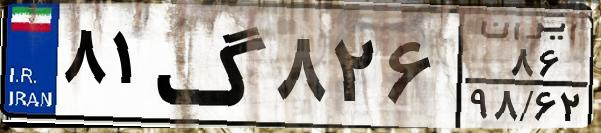1: (110, 28, 156, 98)
2: (330, 28, 385, 110), (560, 70, 590, 125)
6: (385, 28, 445, 110), (537, 27, 568, 80), (535, 70, 560, 125)
8: (270, 28, 330, 110), (57, 26, 110, 100), (508, 27, 537, 80), (495, 70, 520, 125)
9: (470, 70, 495, 125)
گ: (156, 12, 270, 120)
